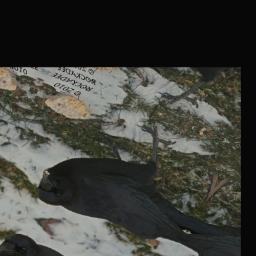Crow: (28, 98, 233, 256)
